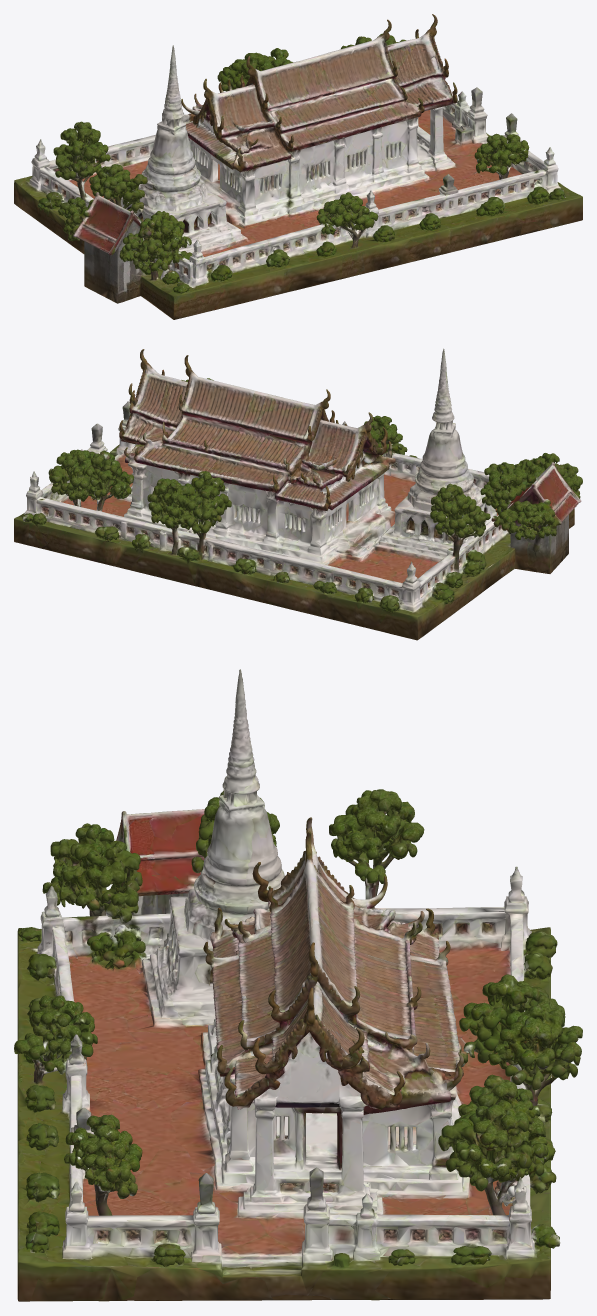
File: kawisararam.glb
The picture shows the model from 3 angles, top to bottom: view 1: azimuth 30°, elevation 25°; view 2: azimuth 150°, elevation 25°; view 3: azimuth 270°, elevation 25°; orthographic projection. The views are drawn at different scales.
Bounding box in the file's own units: 1.9 × 0.8444 × 1.23.
1 material, 1 textured.
